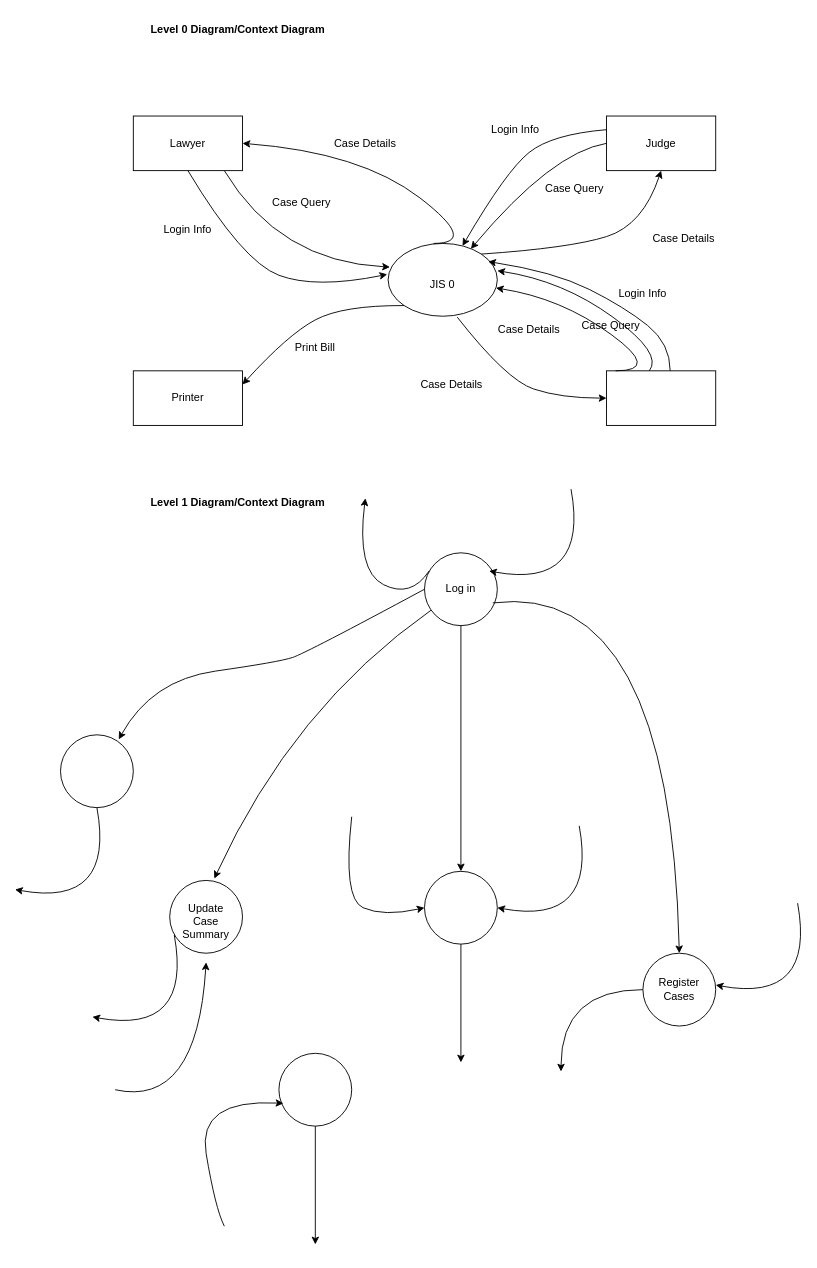
Some shapes in this 817 by 1268 pixel diagram are drawn without their labels. Each missing label, with the centre of its shape:
"Assign New Cases" belongs at (x=315, y=1089).
"Edit Accounts" belongs at (x=96, y=771).
"Query Cases" belongs at (x=460, y=907).
"Register" belongs at (x=661, y=397).
